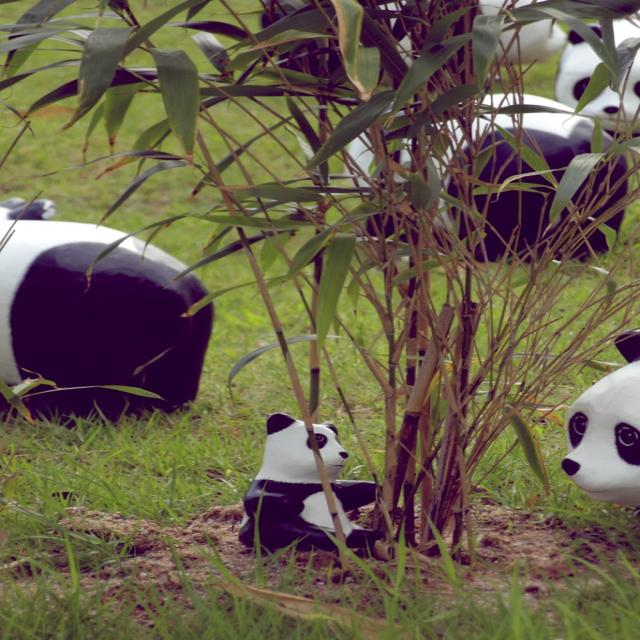panda: (338, 84, 625, 266), (0, 213, 223, 419), (236, 412, 387, 555), (565, 329, 639, 512), (546, 17, 639, 142)
